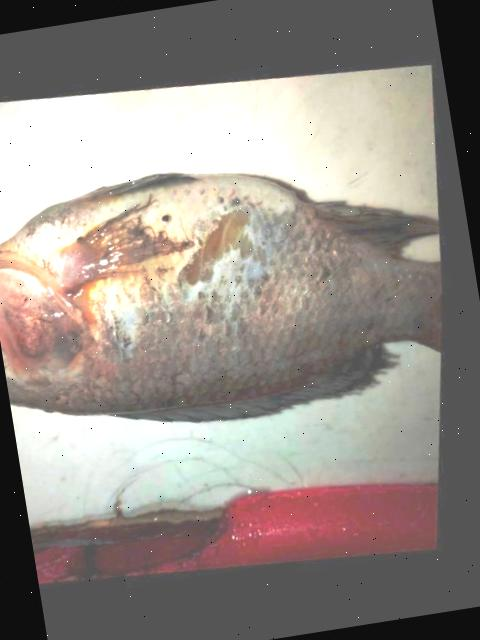Aeromonas Septicemia: (0, 173, 441, 420), (0, 175, 439, 421)
